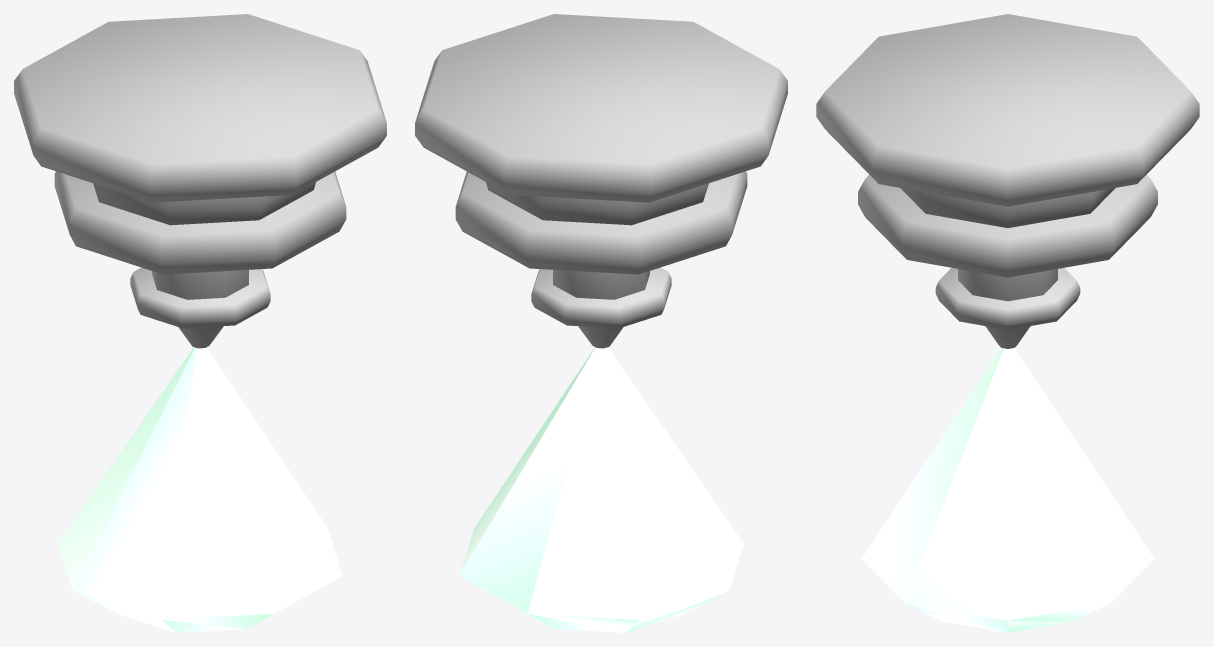
File: stone_pommel_199.glb
The picture shows the model from 3 angles, left to right: view 1: azimuth 30°, elevation 25°; view 2: azimuth 150°, elevation 25°; view 3: azimuth 270°, elevation 25°; orthographic projection.
Parts seen in each view (by area): view 1: stone_pommel.199; view 2: stone_pommel.199; view 3: stone_pommel.199.
Part boxes in pixels (left/top/right/bottom): stone_pommel.199: left=14, top=14, right=386, bottom=632; stone_pommel.199: left=415, top=14, right=787, bottom=632; stone_pommel.199: left=816, top=14, right=1199, bottom=632.
Bounding box in the file's own units: 1.76 × 2.54 × 1.76.
1 material, 1 textured.
